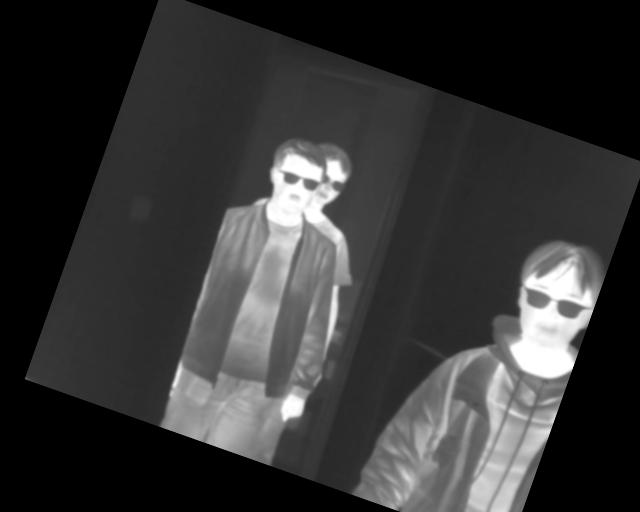face: (497, 226, 612, 366), (259, 132, 333, 219), (303, 140, 358, 212)
